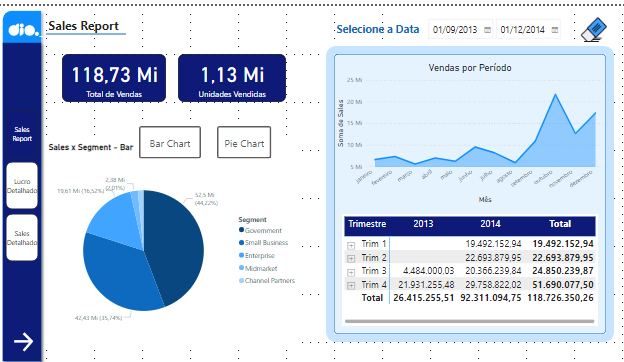

The dashboard page shown, as its layout file describes it:
{"tool":"powerbi","page":{"name":"Sales Report","canvas":[1280,720],"ordinal":0},"visuals":[{"type":"group","id":"g1","title":"Grupo 1","box":[0,0,256,720],"z":0},{"type":"image","box":[1152,16,80,64],"z":0,"group":"g2"},{"type":"shape","box":[656,80,576,592],"z":250},{"type":"shape","box":[672,96,544,560],"z":500},{"type":"textbox","box":[96,16,176,64],"z":1000},{"type":"actionButton","box":[1152,16,80,64],"z":1000,"group":"g2"},{"type":"pieChart","title":"Sales x Segment - Bar","fields":{"Category":["financials.Segment"],"Y":["Sum(financials. Sales)"]},"box":[96,272.6,512,415.4],"z":1000,"group":"g3"},{"type":"areaChart","title":"Vendas por Período","fields":{"Category":["financials.Date.Variation.Hierarquia de datas.Mês"],"Y":["Sum(financials. Sales)"]},"box":[672,112,544,288],"z":2000},{"type":"slicer","fields":{"Values":["financials.Date"]},"box":[848,16,288,64],"z":3000},{"type":"actionButton","title":"Botão - Bar","box":[282.2,240,124.1,65.2],"z":3000,"group":"g3"},{"type":"textbox","box":[672,25,240,80],"z":4000},{"type":"actionButton","title":"Botão - Pie","box":[437.3,240,108.6,65.2],"z":4000,"group":"g3"},{"type":"group","id":"g2","title":"Botão Eraser","box":[1152,16,80,64],"z":5000},{"type":"card","fields":{"Values":["Sum(financials. Sales)"]},"box":[128,96,208,96],"z":6000},{"type":"card","fields":{"Values":["Sum(financials.Units Sold)"]},"box":[360,96,216,96],"z":7000},{"type":"shape","box":[0,0,96,720],"z":7500,"group":"g1"},{"type":"shape","box":[0,64,96,656],"z":8000,"group":"g1"},{"type":"group","id":"g3","title":"Sales x Segment","box":[96,240,512,448],"z":8000},{"type":"actionButton","title":"Botão - Seta","box":[25,640,48,64],"z":9000},{"type":"pivotTable","fields":{"Values":["Sum(financials. Sales)"],"Rows":["financials.Date.Variation.Hierarquia de datas.Trimestre","financials.Date.Variation.Hierarquia de datas.Mês"],"Columns":["financials.Date.Variation.Hierarquia de datas.Ano"]},"box":[688,416,512,224],"z":10000},{"type":"pageNavigator","box":[16,208,64,304],"z":10001},{"type":"shape","box":[96,48,160,16],"z":12000,"group":"g1"},{"type":"image","box":[16,16,80,64],"z":13000,"group":"g1"}]}

Visuals, with their boxes on the page's 1280x720 design canvas (x1, y1, x2, y2). These are canvas units, not pixel positions in the 624x362 screenshot, which may show the page scaled, cropped or inside an application window:
"Grupo 1" group: [0, 0, 256, 720]
image: [1152, 16, 1232, 80]
shape: [656, 80, 1232, 672]
shape: [672, 96, 1216, 656]
textbox: [96, 16, 272, 80]
actionButton: [1152, 16, 1232, 80]
"Sales x Segment - Bar" pieChart: [96, 273, 608, 688]
"Vendas por Período" areaChart: [672, 112, 1216, 400]
slicer - financials.Date: [848, 16, 1136, 80]
"Botão - Bar" actionButton: [282, 240, 406, 305]
textbox: [672, 25, 912, 105]
"Botão - Pie" actionButton: [437, 240, 546, 305]
"Botão Eraser" group: [1152, 16, 1232, 80]
card - Sum(financials. Sales): [128, 96, 336, 192]
card - Sum(financials.Units Sold): [360, 96, 576, 192]
shape: [0, 0, 96, 720]
shape: [0, 64, 96, 720]
"Sales x Segment" group: [96, 240, 608, 688]
"Botão - Seta" actionButton: [25, 640, 73, 704]
pivotTable - Sum(financials. Sales) x financials.Date.Variation.Hierarquia de datas.Trimestre: [688, 416, 1200, 640]
pageNavigator: [16, 208, 80, 512]
shape: [96, 48, 256, 64]
image: [16, 16, 96, 80]
